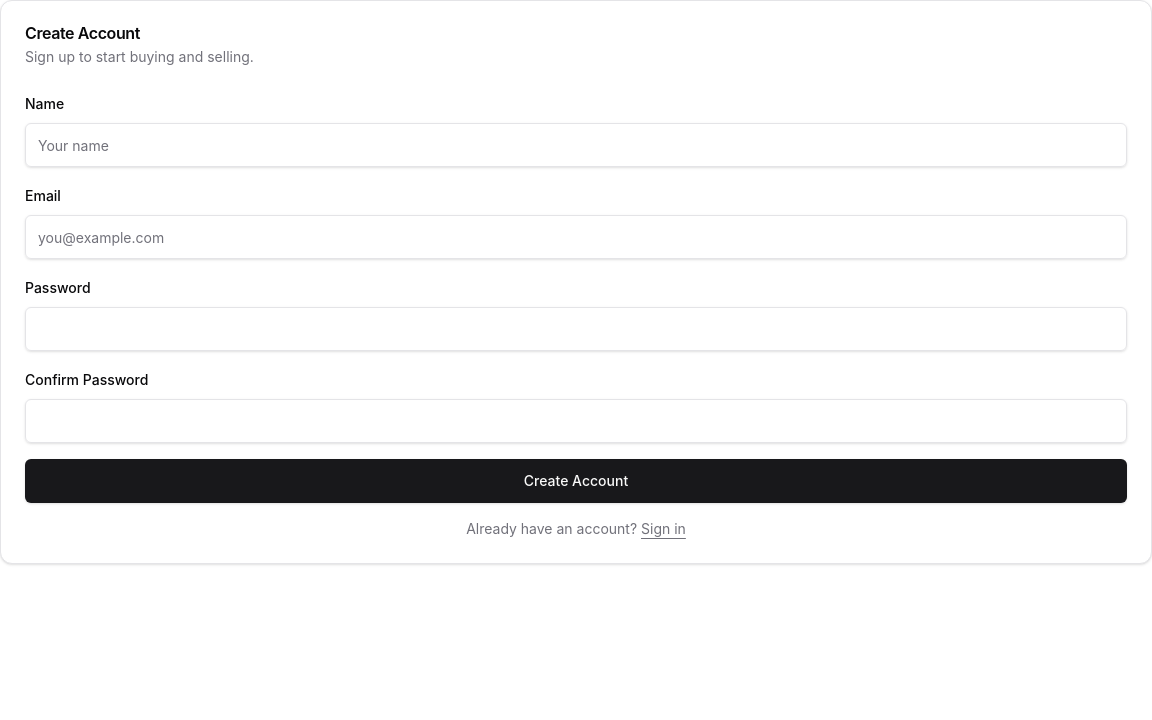
it: RegisterPage › maps password-related server error to password field
Type "Test User" into the field labelled "Name" at (576, 145), box [25, 123, 1127, 167]
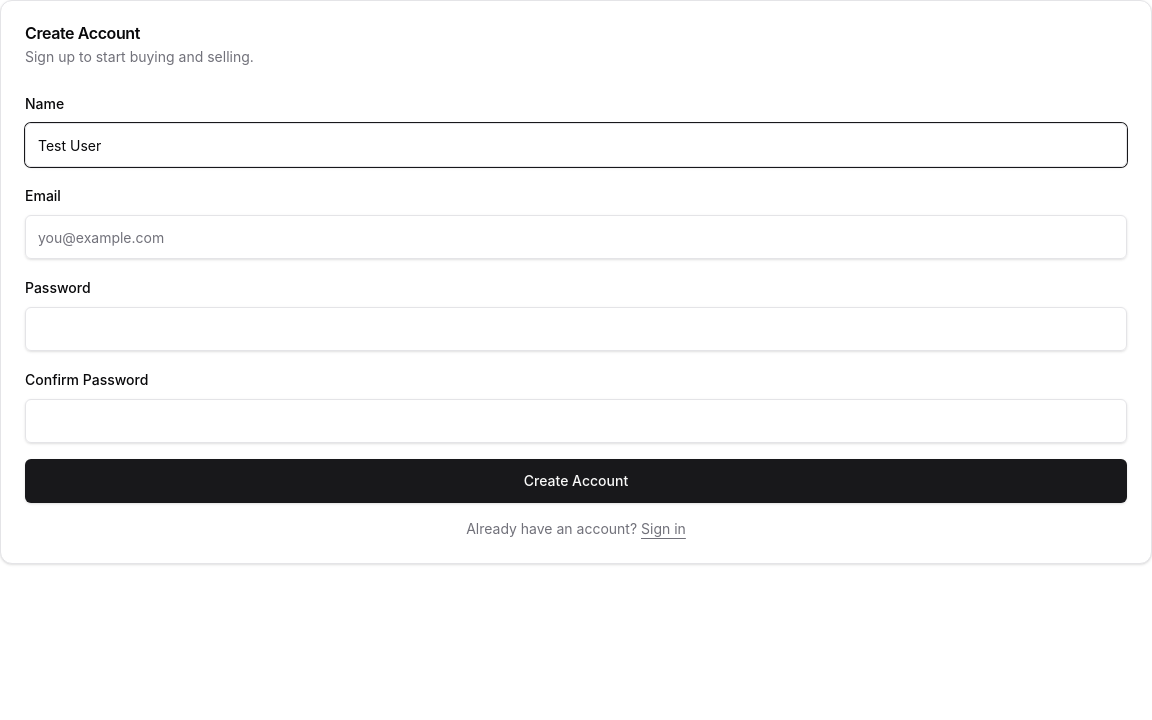
Type "test@example.com" into the field labelled "Email" at (576, 237), box [25, 215, 1127, 259]
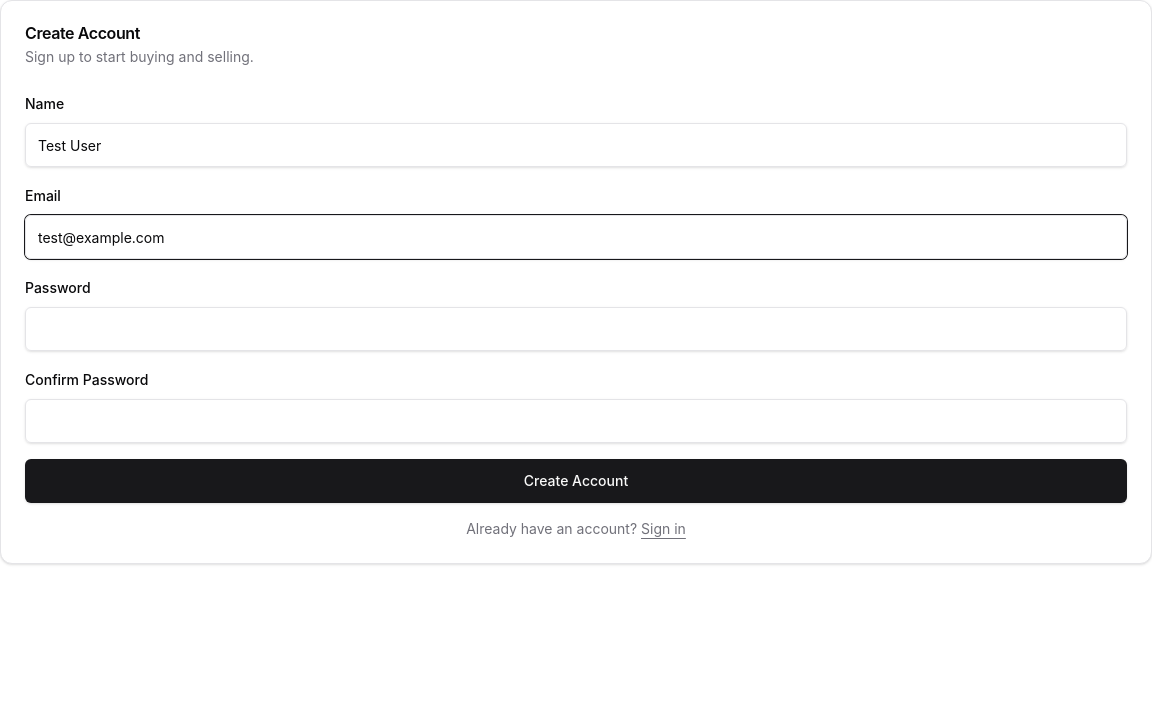
Type "password123" into the password field labelled "Password" at (576, 329), box [25, 307, 1127, 351]
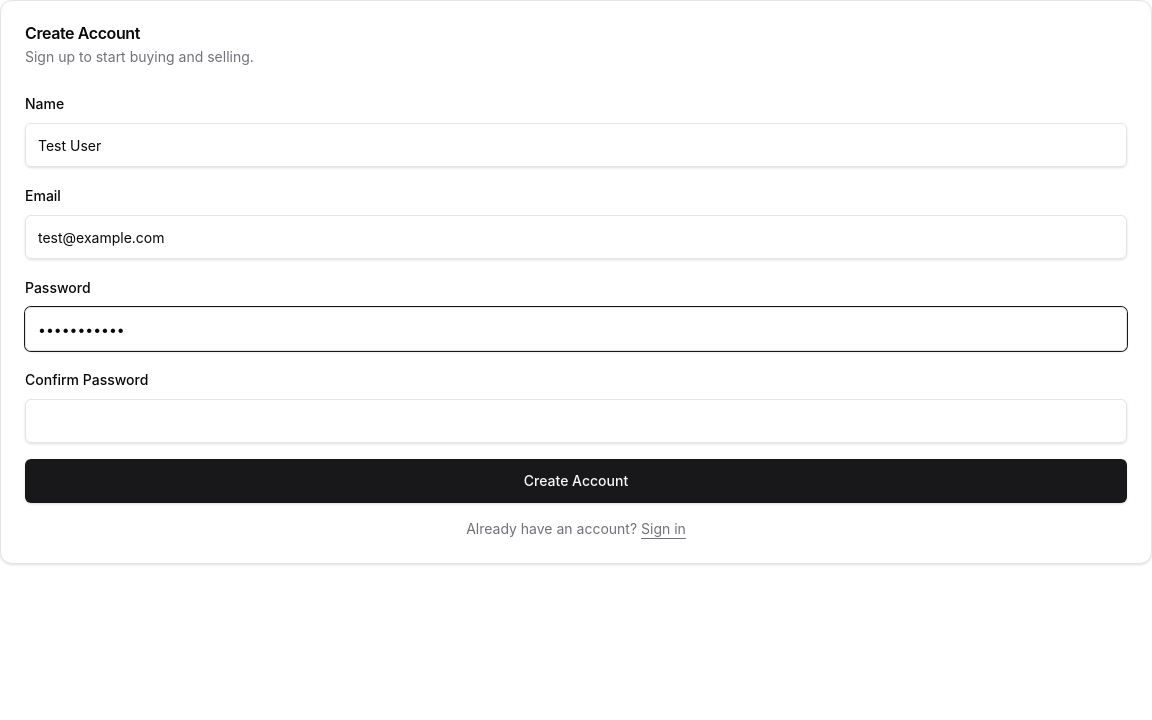
Type "password123" into the password field labelled "Confirm Password" at (576, 421), box [25, 399, 1127, 443]
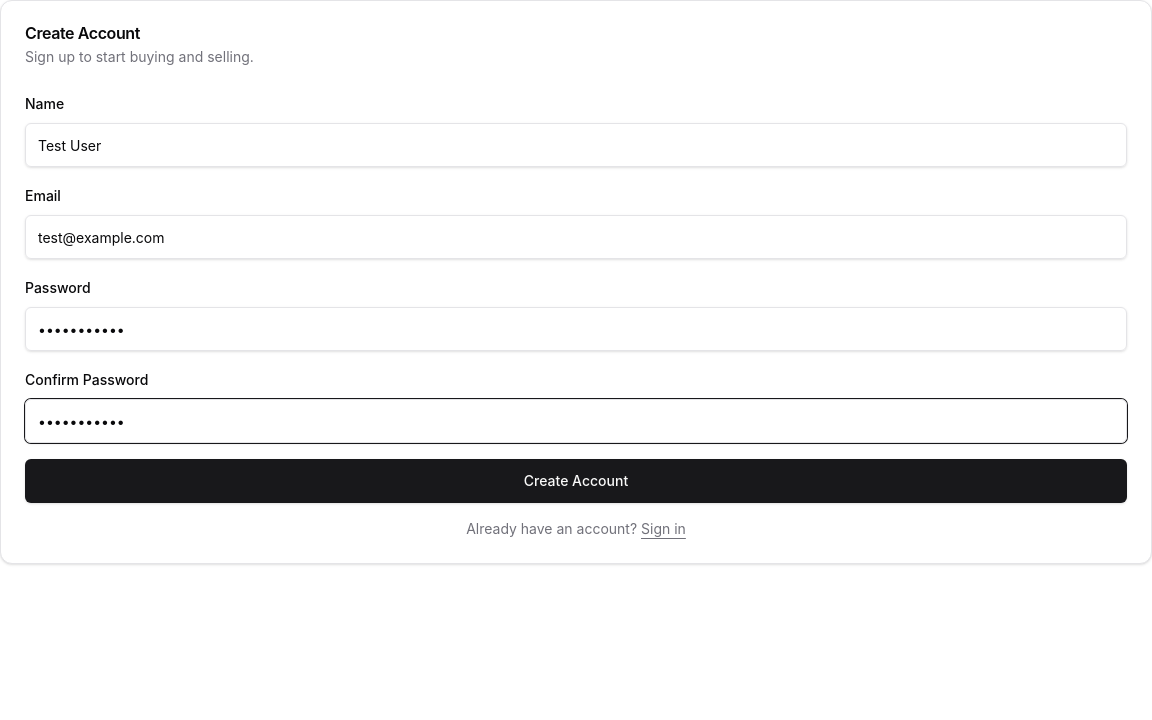
Click the button "Create Account" at (576, 481), box [25, 459, 1127, 503]
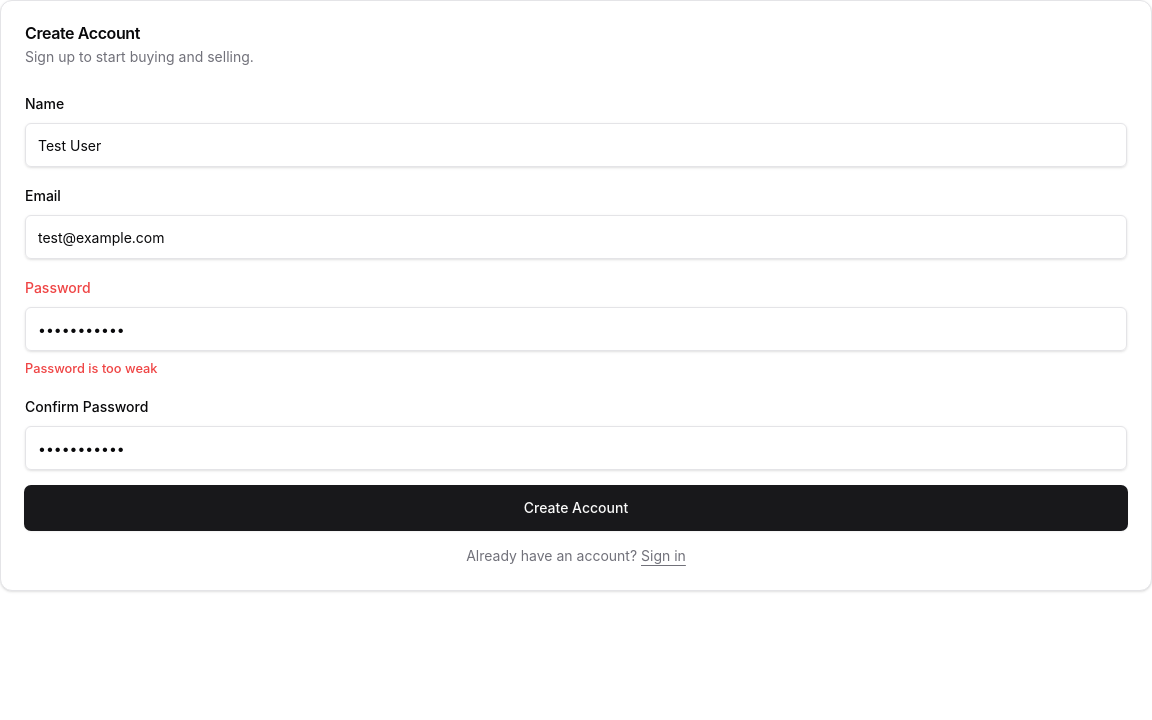
Now the text "Password is too weak" is shown, box [25, 361, 158, 376]
